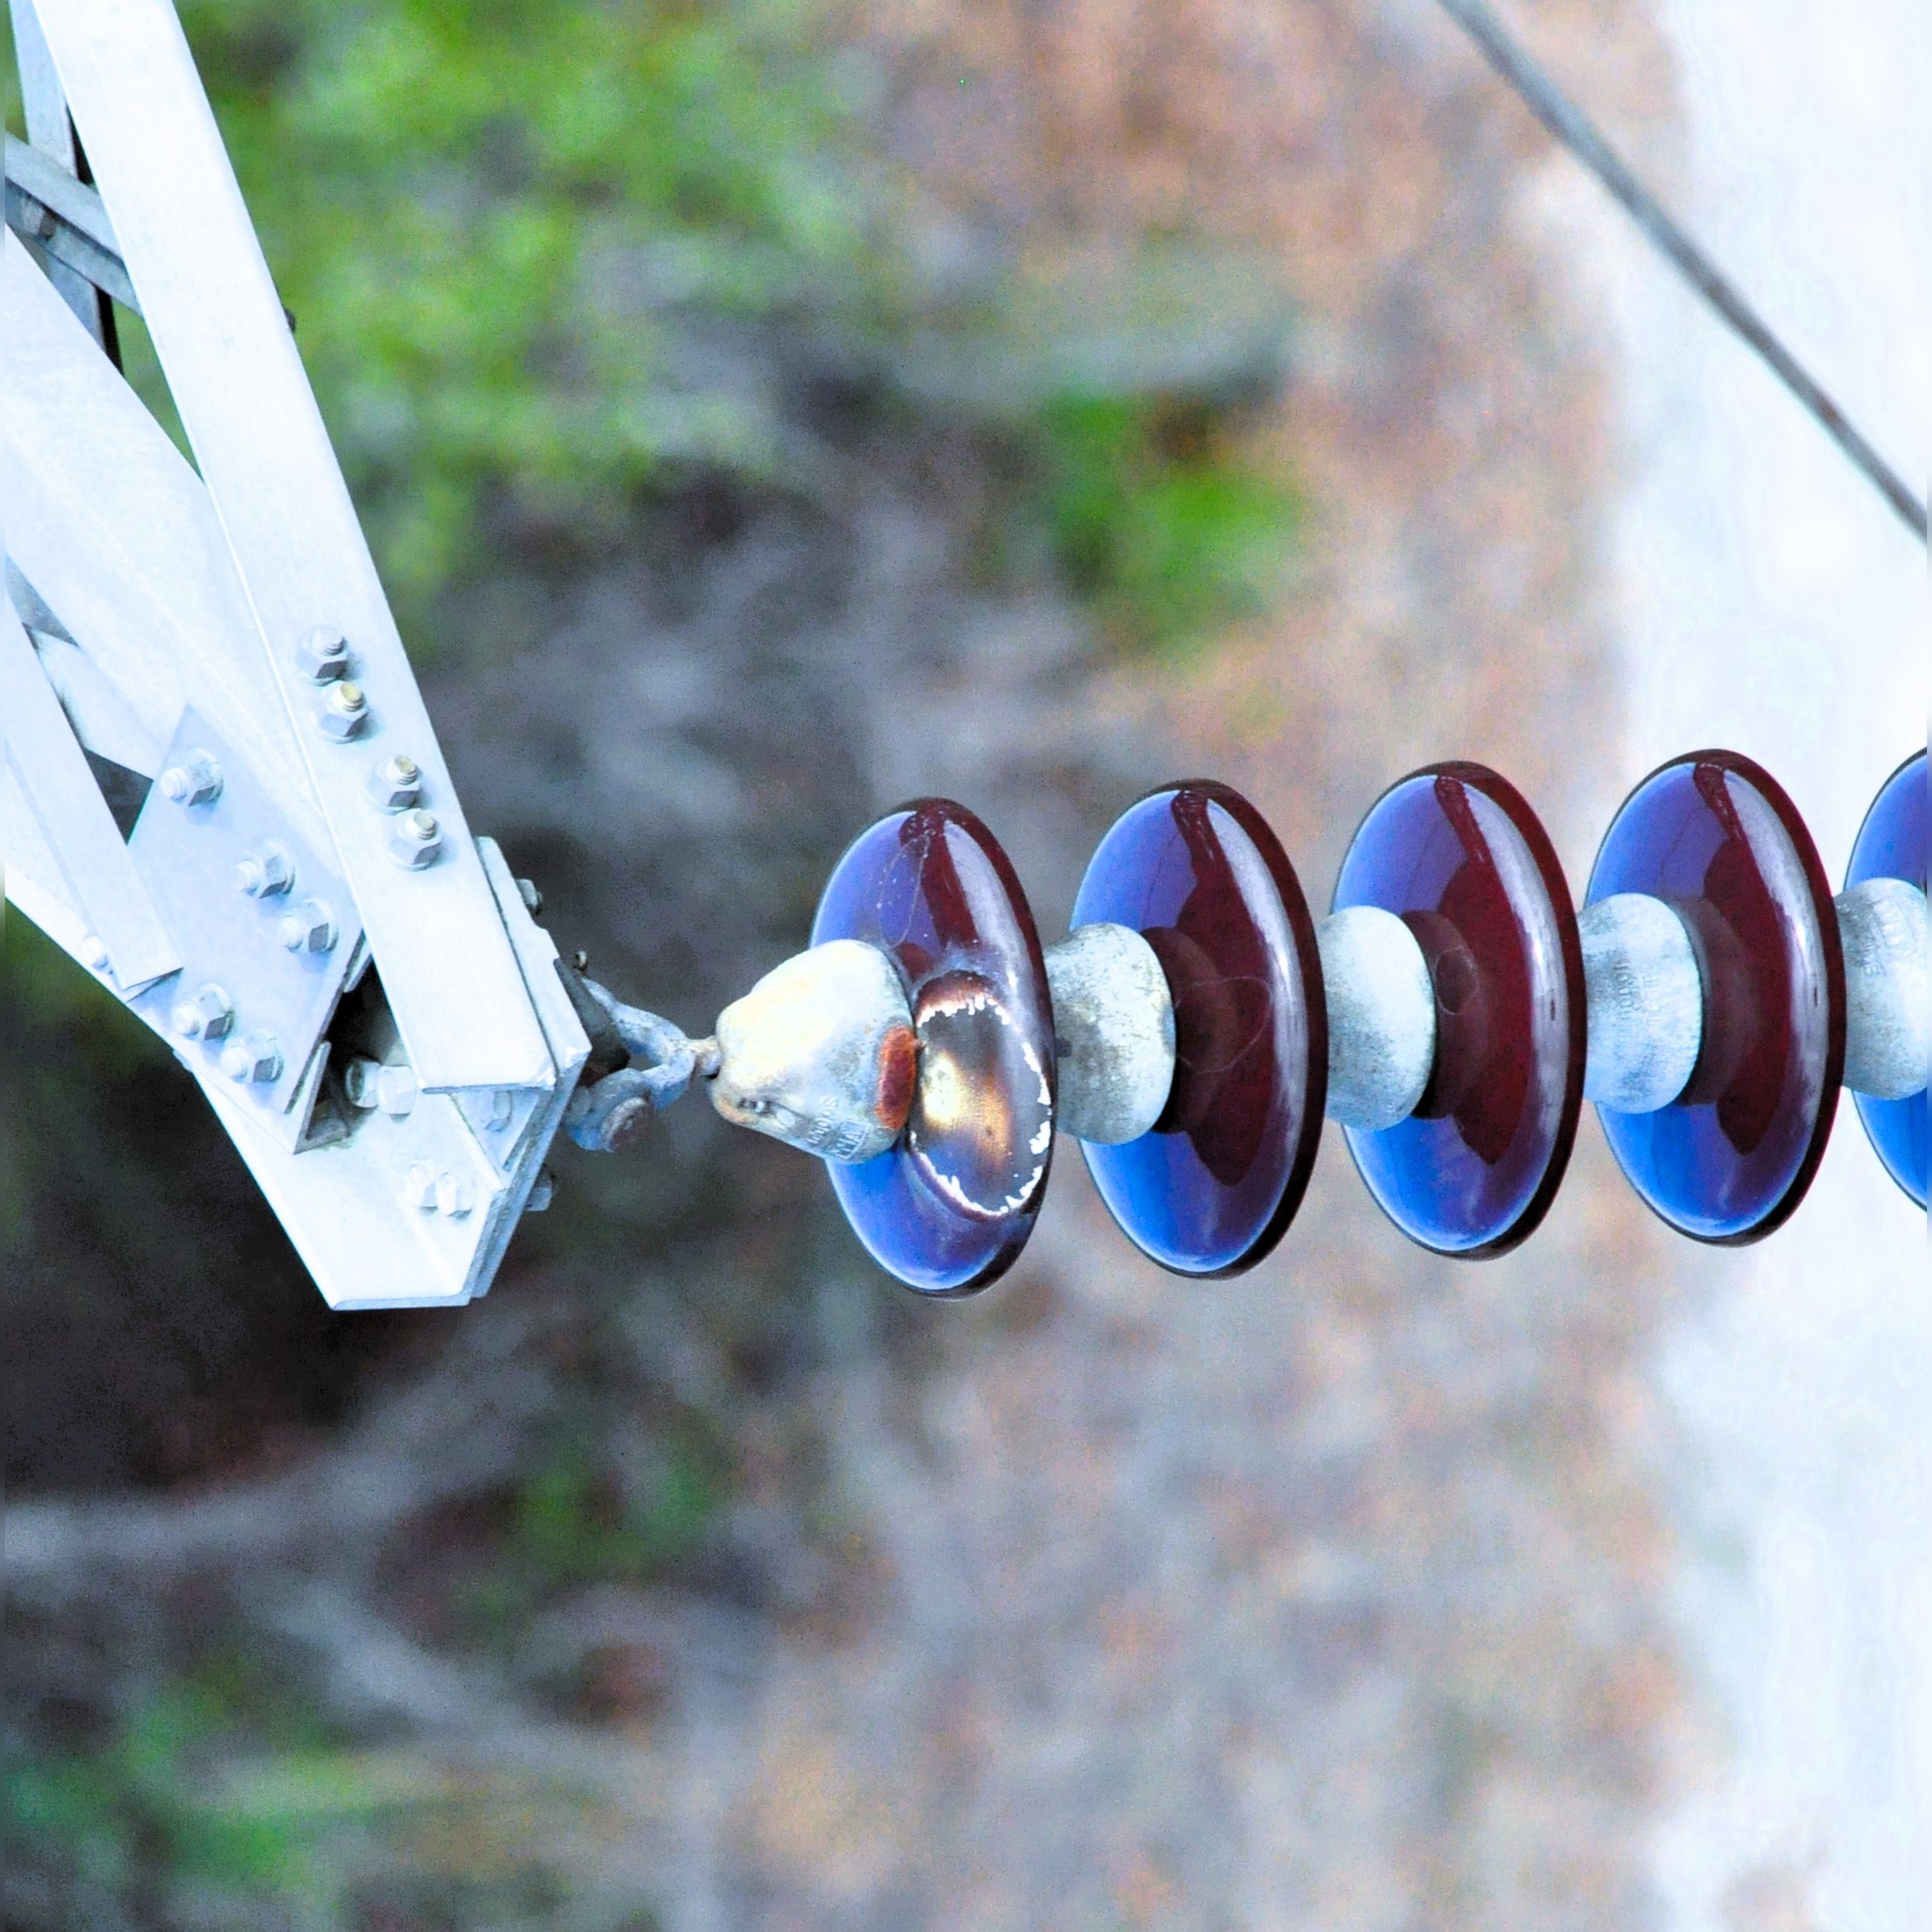Insulator flashover: (782, 787, 1085, 1309)
